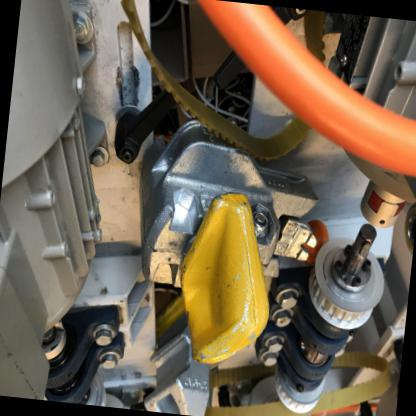Twistlock: (111, 104, 332, 380), (140, 286, 230, 410)
